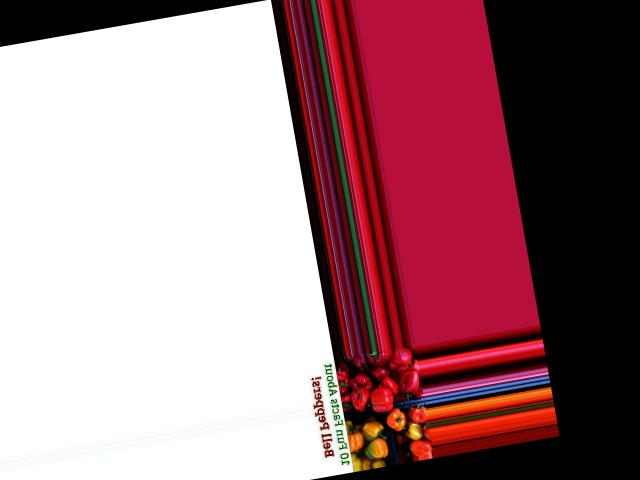bell_pepper: (332, 367, 357, 400)
